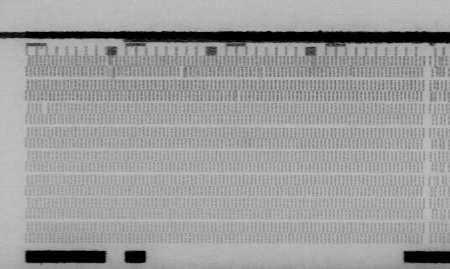Broken hole: (39, 101, 51, 114)
Oblique printing: (430, 160, 450, 198), (429, 55, 450, 80), (103, 55, 119, 79), (256, 66, 269, 80), (177, 65, 190, 78), (231, 89, 244, 101)
